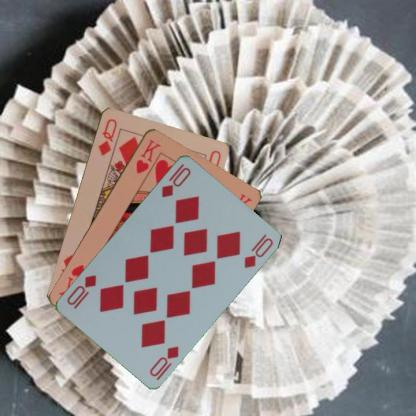10d: (158, 160, 192, 198), (147, 344, 180, 381)
Kh: (133, 136, 162, 175)
Qd: (95, 115, 118, 159)
